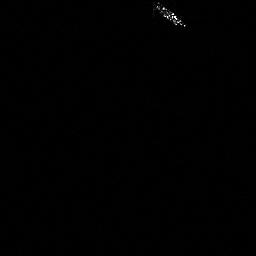ship: (151, 1, 189, 31)
